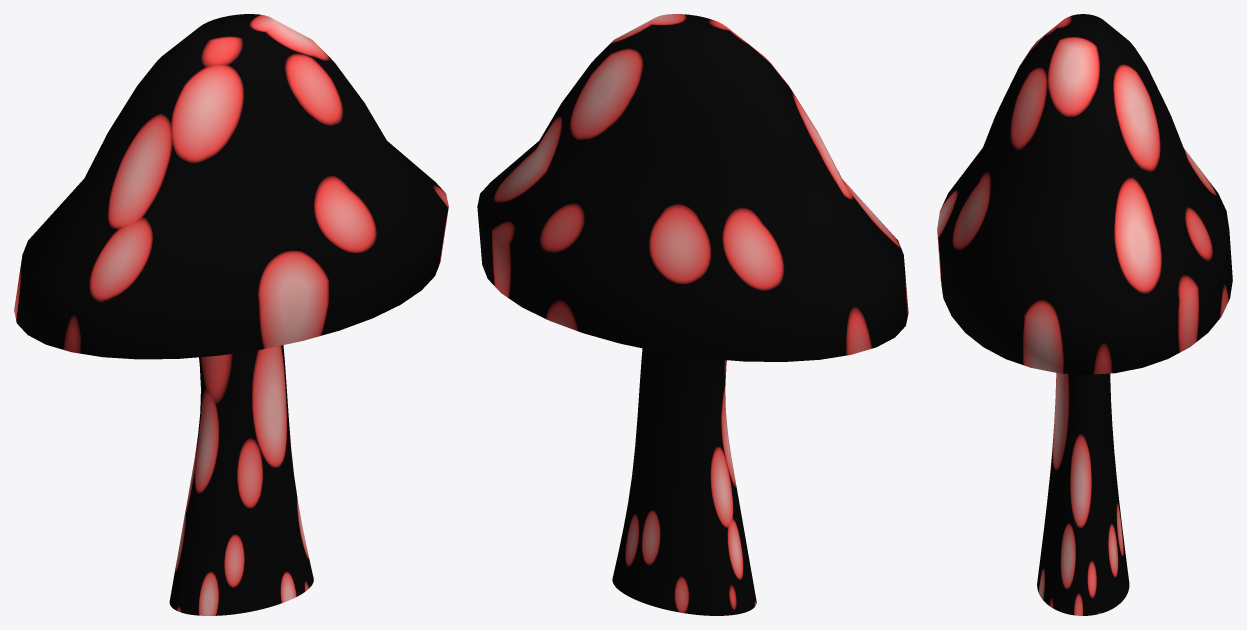
Rendered from GlowMushroom3.fbx.
The picture shows the model from 3 angles, left to right: view 1: azimuth 30°, elevation 25°; view 2: azimuth 150°, elevation 25°; view 3: azimuth 270°, elevation 25°; orthographic projection. The views are drawn at different scales.
Visible parts, largest first — view 1: Circle; view 2: Circle; view 3: Circle.
Boxes of the visible parts, x1=… form: Circle: x1=14, y1=14, x2=448, y2=615; Circle: x1=477, y1=14, x2=908, y2=615; Circle: x1=937, y1=14, x2=1232, y2=615.
Bounding box in the file's own units: 17640 × 23508 × 11422.
1 material, 1 textured.
